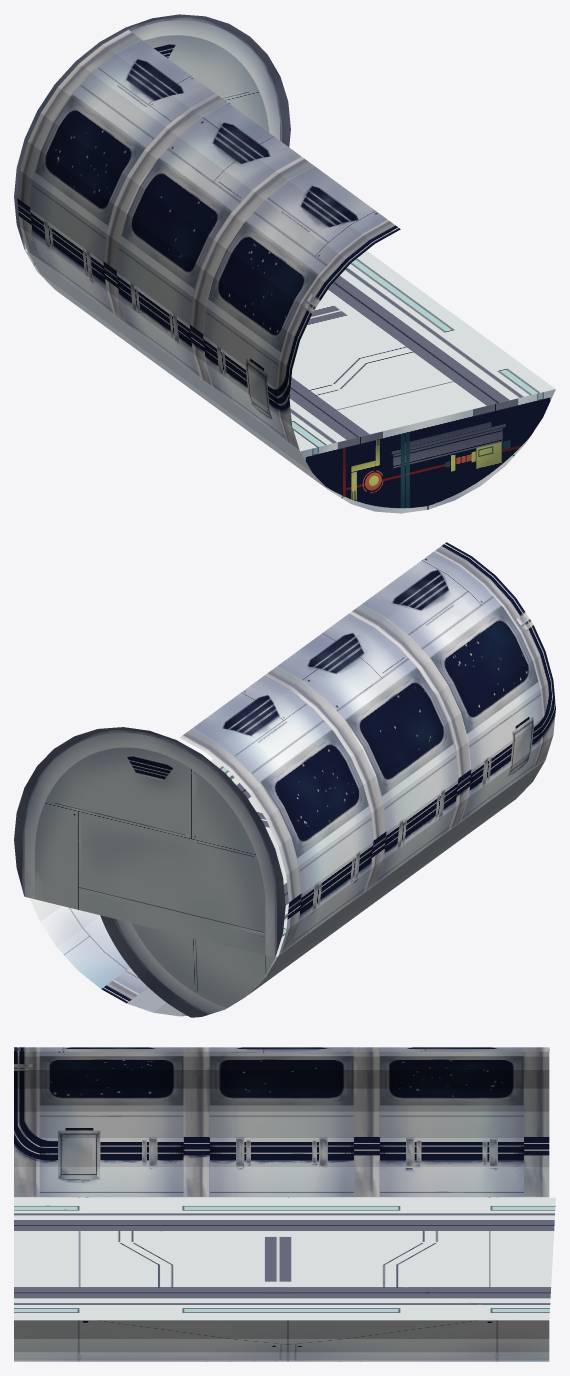
The model's file is spaceroom.fbx.
The picture shows the model from 3 angles, top to bottom: view 1: azimuth 30°, elevation 25°; view 2: azimuth 150°, elevation 25°; view 3: azimuth 270°, elevation 25°; orthographic projection.
Parts seen in each view (by area): view 1: Outer Shell, Floor, Outer Shell.001, Door Wall; view 2: Outer Shell, Door Wall, Floor; view 3: Outer Shell, Floor.
Part boxes in pixels (<box>): Outer Shell: <box>17,30,400,489</box>; Floor: <box>25,249,555,451</box>; Outer Shell.001: <box>300,389,555,513</box>; Door Wall: <box>14,14,290,289</box>; Outer Shell: <box>29,542,555,1016</box>; Door Wall: <box>14,727,285,1017</box>; Floor: <box>210,758,288,957</box>; Outer Shell: <box>14,1047,549,1361</box>; Floor: <box>14,1197,555,1320</box>.
Bounding box in the file's own units: 223 × 223 × 384.
